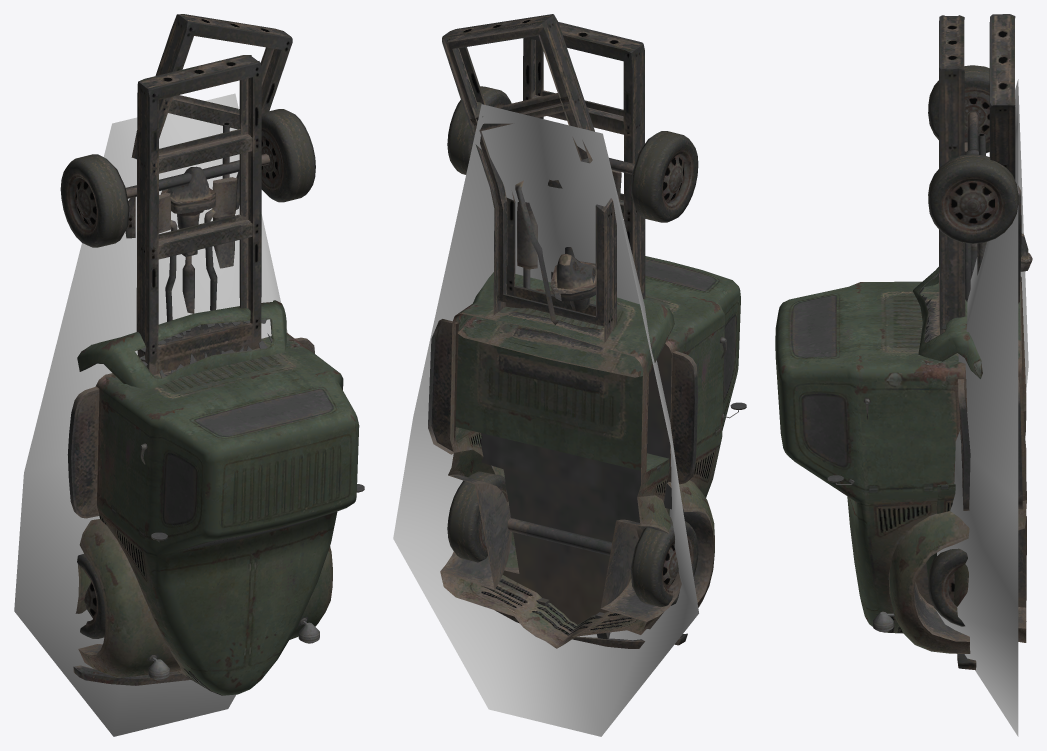
The model's file is hd_env420_OldGLightVan_02.glb.
3 views of the same model, side by side, from view 1: azimuth 30°, elevation 25°; view 2: azimuth 150°, elevation 25°; view 3: azimuth 270°, elevation 25° (orthographic).
Visible parts, largest first — view 1: set_0_group_2, set_0_group_0, set_0_group_1; view 2: set_0_group_1, set_0_group_2, set_0_group_0; view 3: set_0_group_2, set_0_group_0, set_0_group_1.
Part boxes in pixels (box(x1,y1,x2,y2)): set_0_group_2: box(60, 55, 364, 695); set_0_group_0: box(14, 93, 287, 736); set_0_group_1: box(75, 14, 292, 613); set_0_group_1: box(428, 14, 681, 648); set_0_group_2: box(447, 22, 746, 648); set_0_group_0: box(393, 104, 698, 736); set_0_group_2: box(775, 15, 1018, 669); set_0_group_0: box(935, 79, 1028, 736); set_0_group_1: box(913, 14, 1032, 642).
Size of the model in its own units: 2.69 by 5.87 by 1.97.
Materials: 3 (2 with a texture image).
